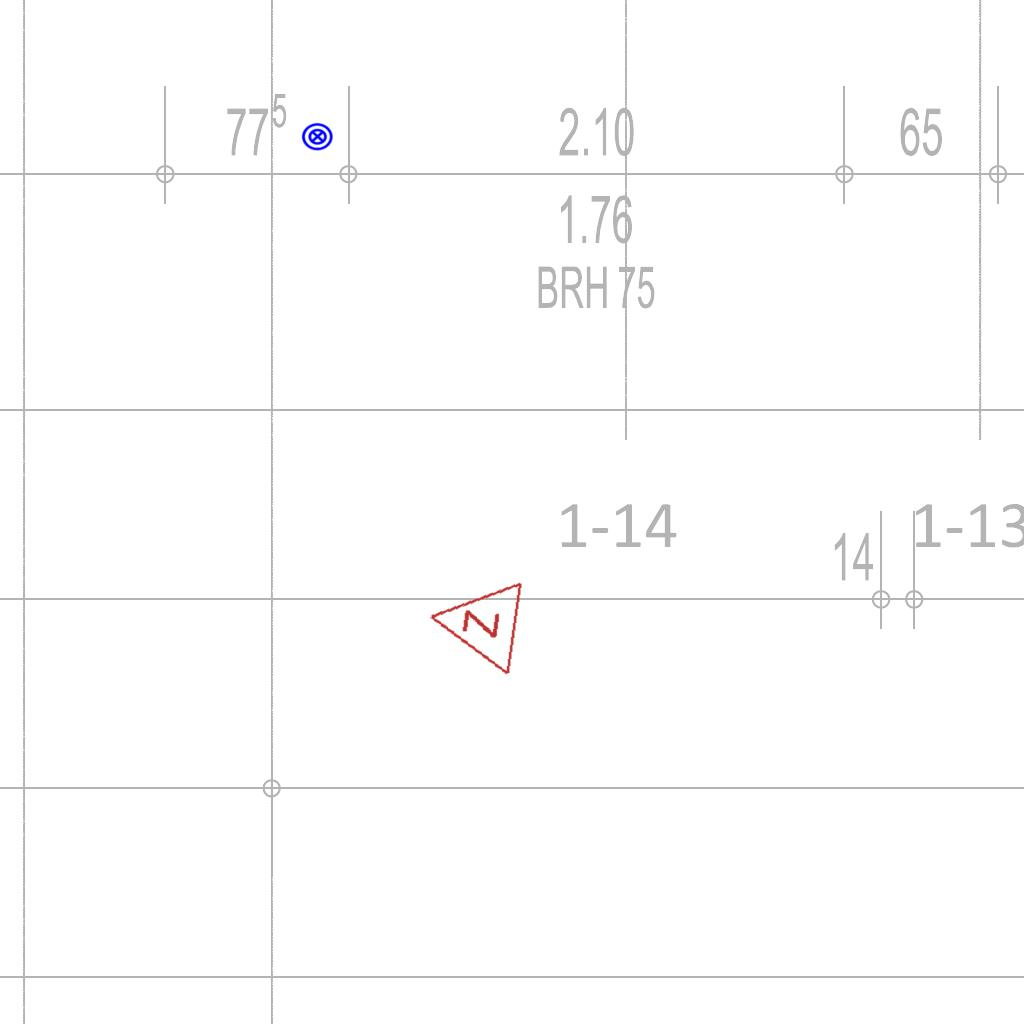Taster_beleuchtet: (301, 120, 334, 153)
Zimmersignalleuchte: (416, 568, 530, 680)
